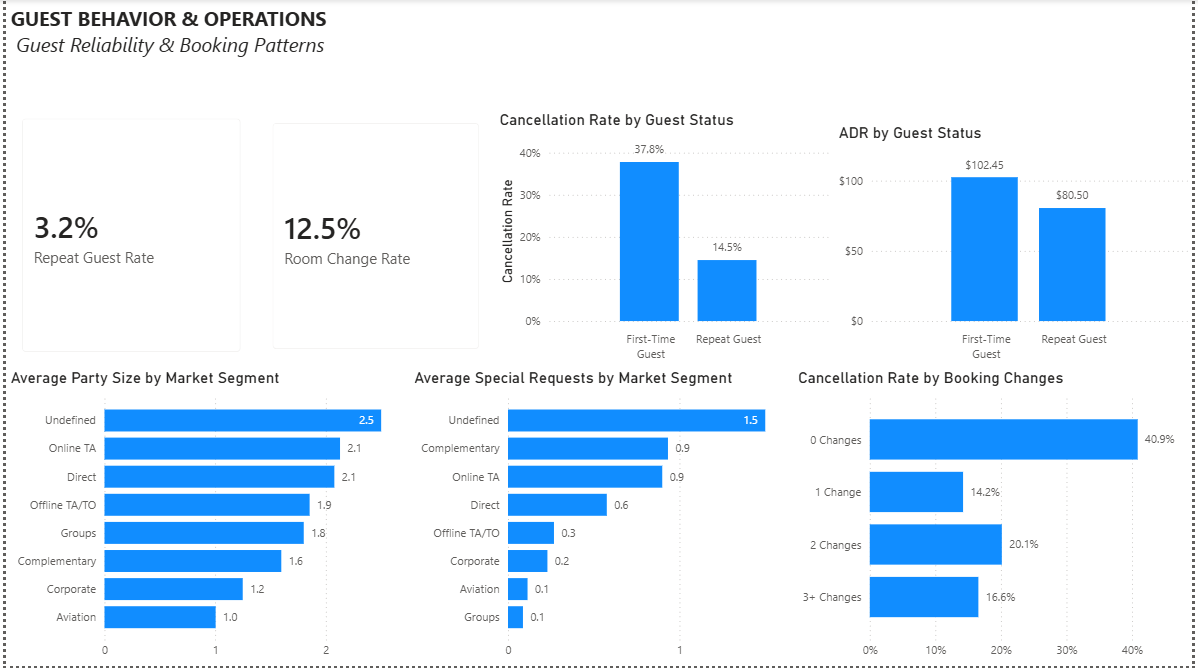

What the dashboard file says about the page in this screenshot:
{"tool":"powerbi","page":{"name":"Guest & Operations","canvas":[1280,720],"ordinal":3},"visuals":[{"type":"cardVisual","fields":{"Data":["_Measures.Repeat Guest Rate"]},"box":[0,111.7,270.4,286.6],"z":0},{"type":"clusteredColumnChart","fields":{"Category":["fact_bookings.Guest Status"],"Y":["_Measures.Cancellation Rate"]},"box":[527.9,119.8,365.9,278.5],"z":1000},{"type":"clusteredColumnChart","title":"ADR by Guest Status","fields":{"Category":["fact_bookings.Guest Status"],"Y":["_Measures.Realized ADR Proxy"]},"box":[893.8,134.4,387,263.9],"z":2000},{"type":"cardVisual","fields":{"Data":["_Measures.Room Change Rate"]},"box":[270.4,116.6,257.5,278.5],"z":3000},{"type":"clusteredBarChart","title":"Average Party Size by Market Segment","fields":{"Category":["dim_market_segment.market_segment"],"Y":["_Measures.Average Party Size"]},"box":[0,398.3,435.6,322.2],"z":4000},{"type":"clusteredBarChart","title":"Average Special Requests by Market Segment","fields":{"Category":["dim_market_segment.market_segment"],"Y":["_Measures.Average Special Requests"]},"box":[435.6,398.3,414.5,322.2],"z":5000},{"type":"clusteredBarChart","title":"Cancellation Rate by Booking Changes","fields":{"Category":["fact_bookings.Booking Change Group"],"Y":["_Measures.Cancellation Rate"]},"box":[850.1,398.3,430.7,322.2],"z":6000},{"type":"textbox","box":[0,0,1280.8,111.7],"z":9001}]}

Visuals, with their boxes in screenshot pixels (x1, y1, x2, y2), scaled from the page's 1280x720 canvas onto the 1198x670 screenshot:
cardVisual - _Measures.Repeat Guest Rate: (x1=0, y1=104, x2=253, y2=371)
clusteredColumnChart - fact_bookings.Guest Status x _Measures.Cancellation Rate: (x1=494, y1=111, x2=837, y2=371)
"ADR by Guest Status" clusteredColumnChart: (x1=837, y1=125, x2=1197, y2=371)
cardVisual - _Measures.Room Change Rate: (x1=253, y1=109, x2=494, y2=368)
"Average Party Size by Market Segment" clusteredBarChart: (x1=0, y1=371, x2=408, y2=669)
"Average Special Requests by Market Segment" clusteredBarChart: (x1=408, y1=371, x2=796, y2=669)
"Cancellation Rate by Booking Changes" clusteredBarChart: (x1=796, y1=371, x2=1197, y2=669)
textbox: (x1=0, y1=0, x2=1197, y2=104)
